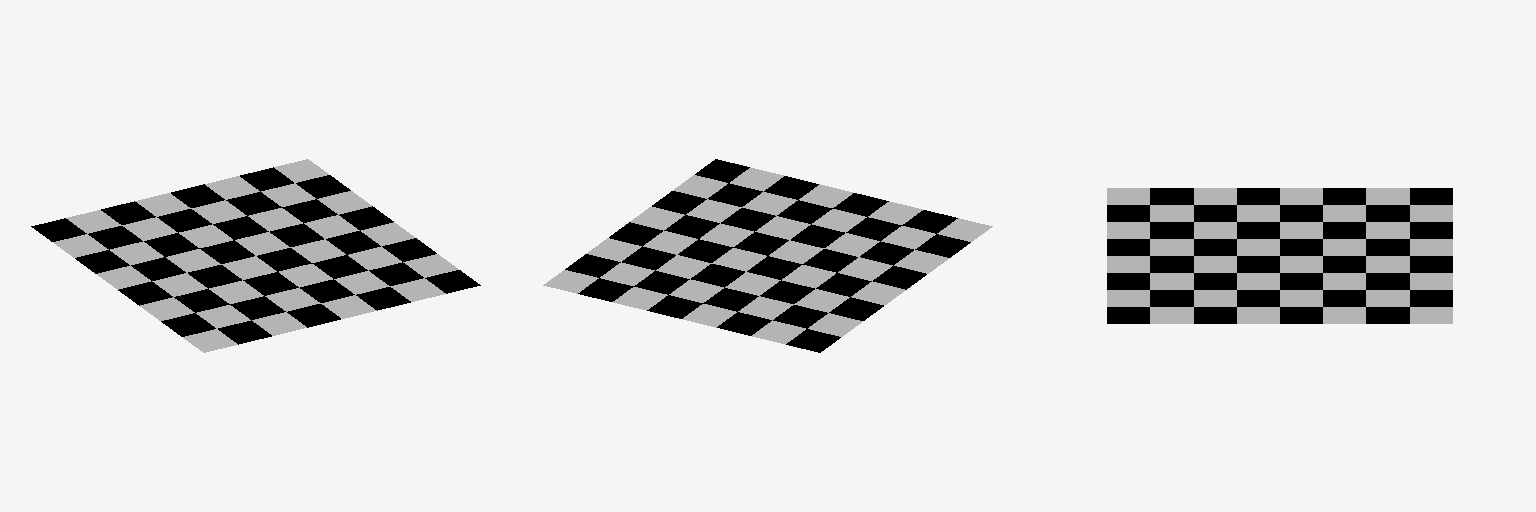
File: Tabuleiro.obj
The picture shows the model from 3 angles: view 1: azimuth 30°, elevation 25°; view 2: azimuth 150°, elevation 25°; view 3: azimuth 270°, elevation 25°; orthographic projection.
Parts seen in each view (by area): view 1: Tabu_Plane.064; view 2: Tabu_Plane.064; view 3: Tabu_Plane.064.
Boxes of the visible parts, box(x1,y1,x2,y2) form: Tabu_Plane.064: box(31, 159, 480, 352); Tabu_Plane.064: box(543, 159, 992, 352); Tabu_Plane.064: box(1107, 188, 1452, 323).
Size of the model in its own units: 5.75 by 0 by 6.21.